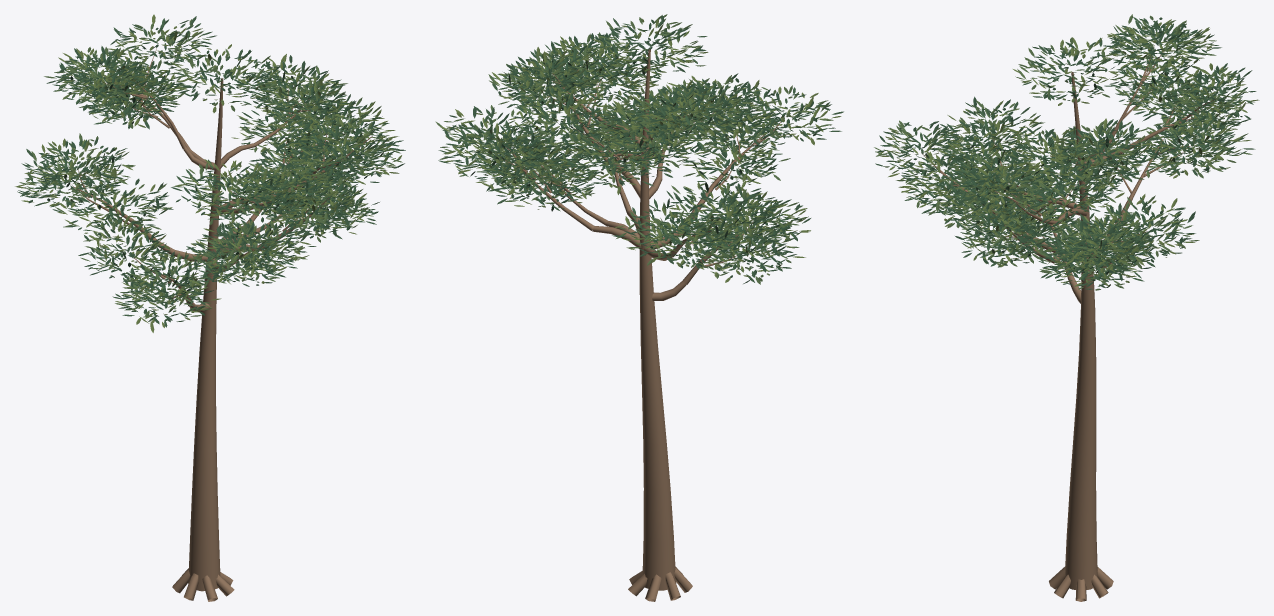
The model's file is Pin_Cotier_0_High.fbx.
3 views of the same model, side by side, from view 1: azimuth 30°, elevation 25°; view 2: azimuth 150°, elevation 25°; view 3: azimuth 270°, elevation 25° (orthographic). The views are drawn at different scales.
Parts seen in each view (by area): view 1: Pin_Cotier_0_High; view 2: Pin_Cotier_0_High; view 3: Pin_Cotier_0_High.
Boxes of the visible parts, x1=… form: Pin_Cotier_0_High: x1=15, y1=14, x2=405, y2=601; Pin_Cotier_0_High: x1=435, y1=14, x2=843, y2=601; Pin_Cotier_0_High: x1=874, y1=14, x2=1259, y2=601.
Size of the model in its own units: 743 by 1158 by 731.
